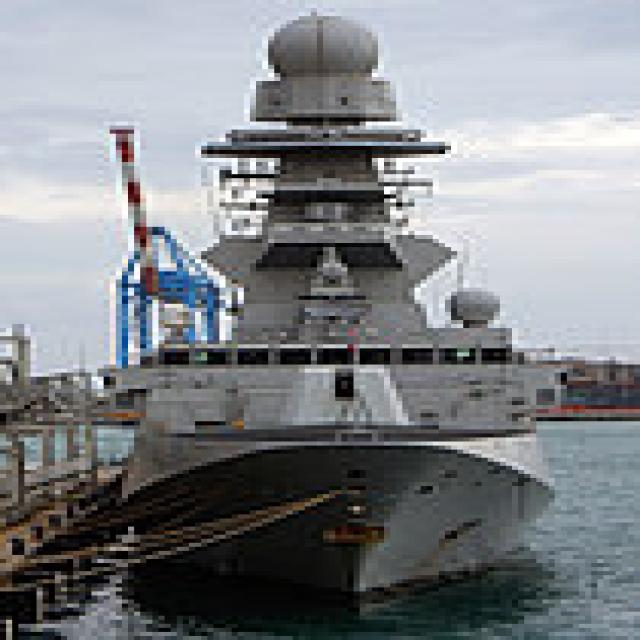Warship: (97, 8, 567, 600)
